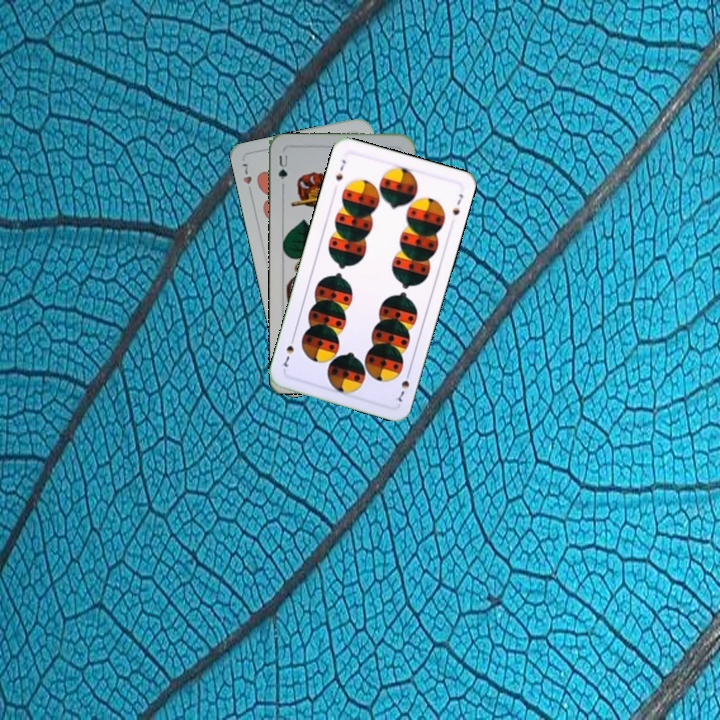GU: (274, 151, 291, 182)
H7: (238, 159, 255, 197)
S7: (391, 367, 413, 404), (331, 156, 348, 183)
